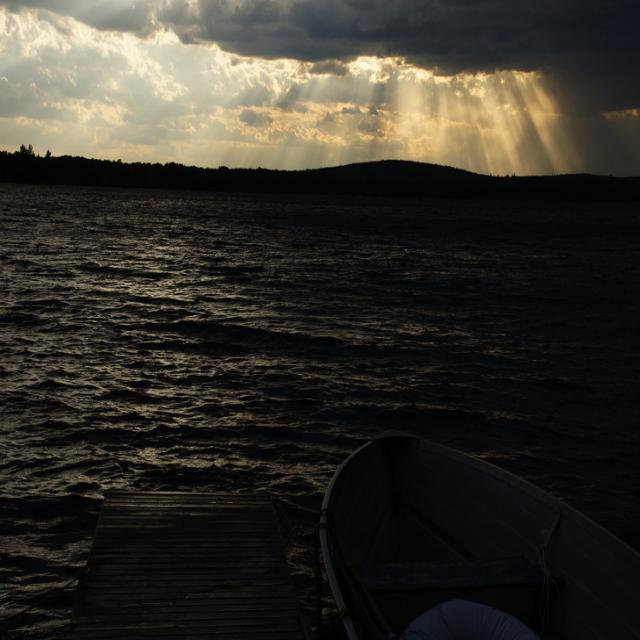Boat: (298, 425, 640, 640)
